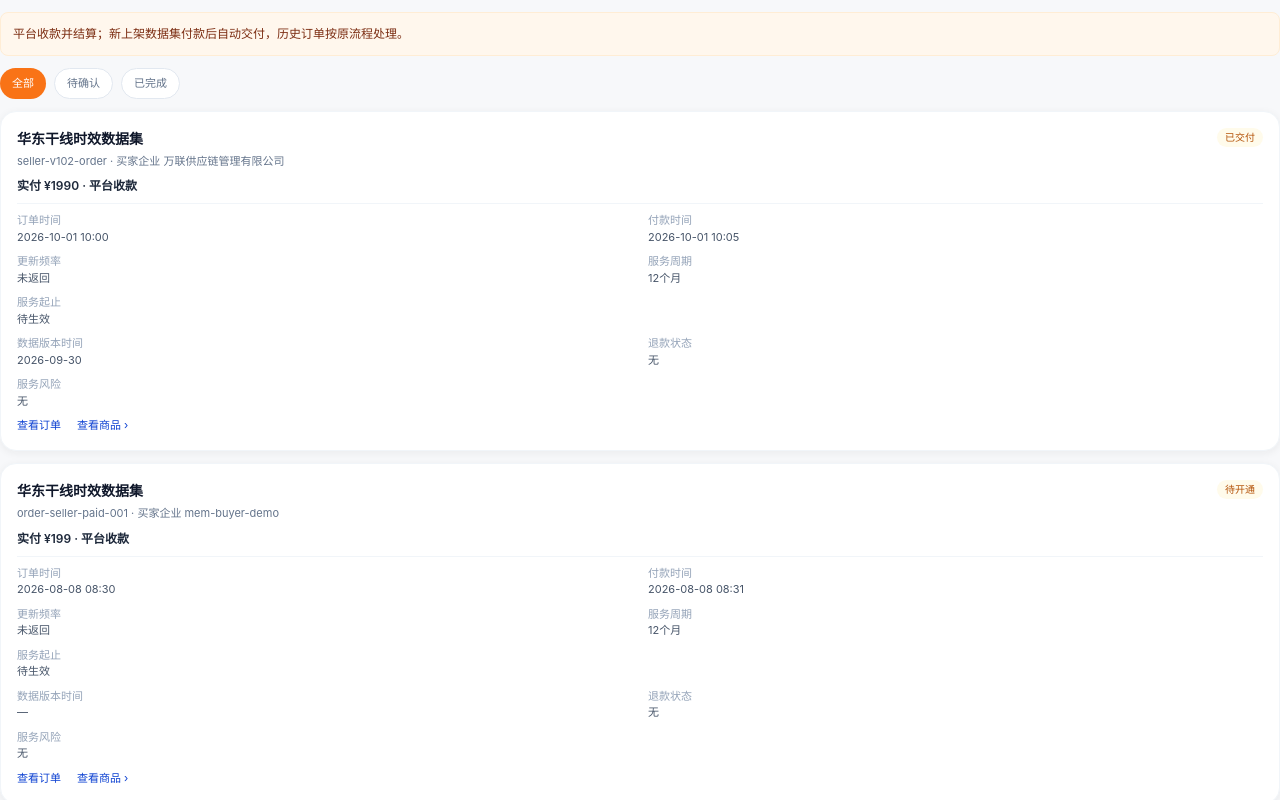
Test case: SellerOrders V1.0.2 › shows delivery and service facts for seller orders
Expected: the element with test id "seller-order-seller-v102-order" shows "订单时间", x1=17 y1=213 x2=61 y2=227
Expected: the element with test id "seller-order-seller-v102-order" shows "付款时间", x1=648 y1=213 x2=692 y2=227
Click the button with test id "seller-order-detail-open" below "2026-09-30" at (39, 425), box x1=17 y1=417 x2=61 y2=434
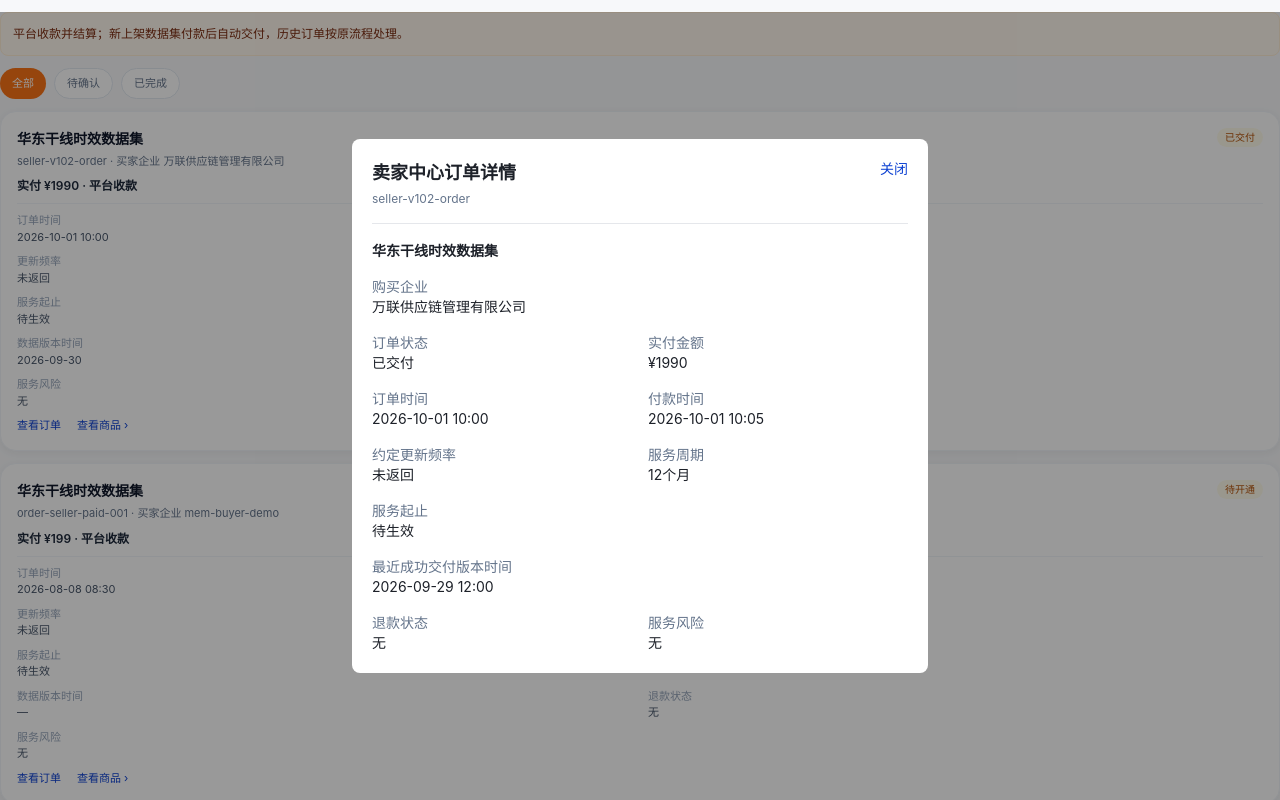
Expected: the dialog with test id "seller-order-detail" shows "服务起止", x1=372 y1=502 x2=428 y2=519
Expected: the dialog with test id "seller-order-detail" shows "最近成功交付版本时间", x1=372 y1=558 x2=512 y2=575
Expected: the dialog with test id "seller-order-detail" shows "未返回", x1=372 y1=466 x2=414 y2=483
